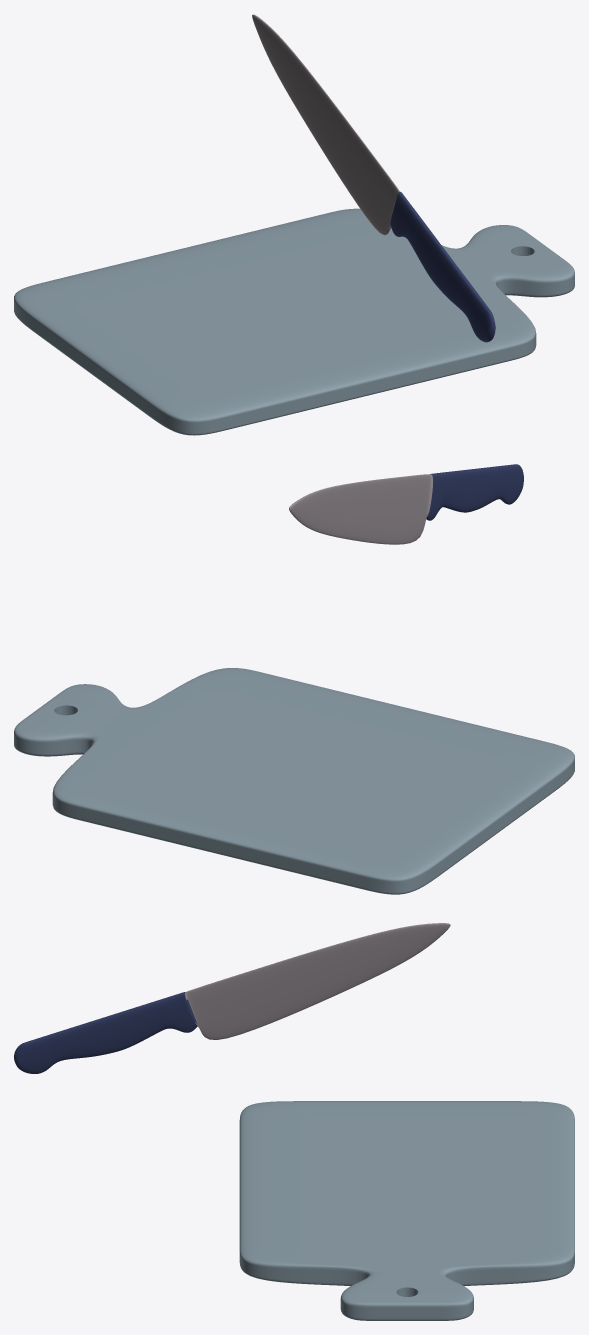
Rendered from knife__anim.fbx.
3 renders of one model, top to bottom at view 1: azimuth 30°, elevation 25°; view 2: azimuth 150°, elevation 25°; view 3: azimuth 270°, elevation 25°, orthographic. The views are drawn at different scales.
Visible parts, largest first — view 1: talenan, knife; view 2: talenan, knife; view 3: talenan, knife.
Boxes of the visible parts, x1,y1,x2,y2 form: talenan: (14,208,574,435); knife: (252,14,495,342); talenan: (14,668,574,894); knife: (289,464,523,544); talenan: (239,1101,574,1320); knife: (14,923,450,1073).
Size of the model in its own units: 0.817 by 0.5166 by 0.9452.
